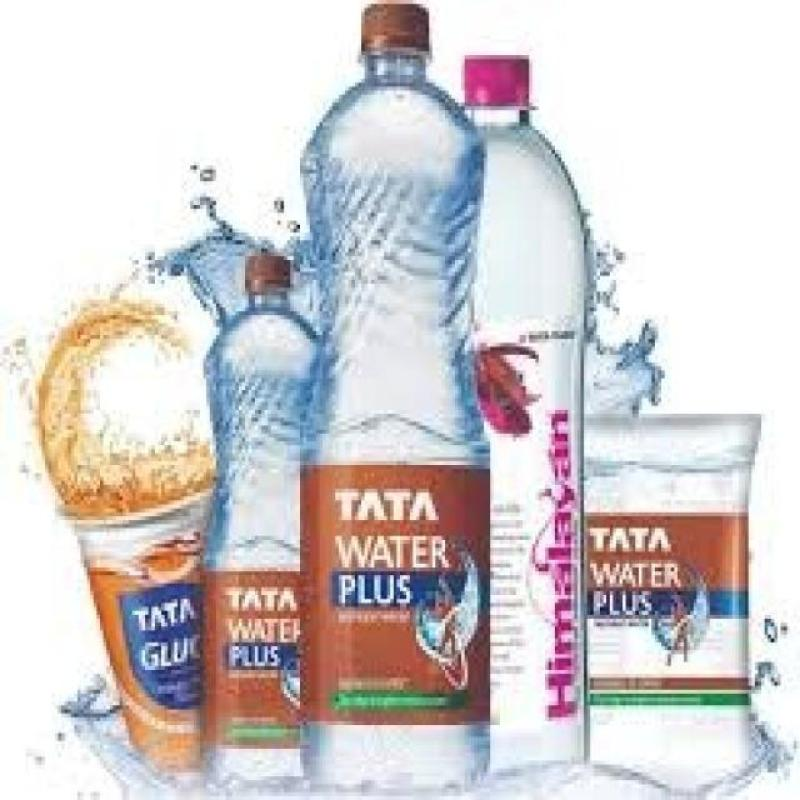botella: (297, 4, 491, 796), (465, 55, 590, 773), (203, 256, 323, 793)
